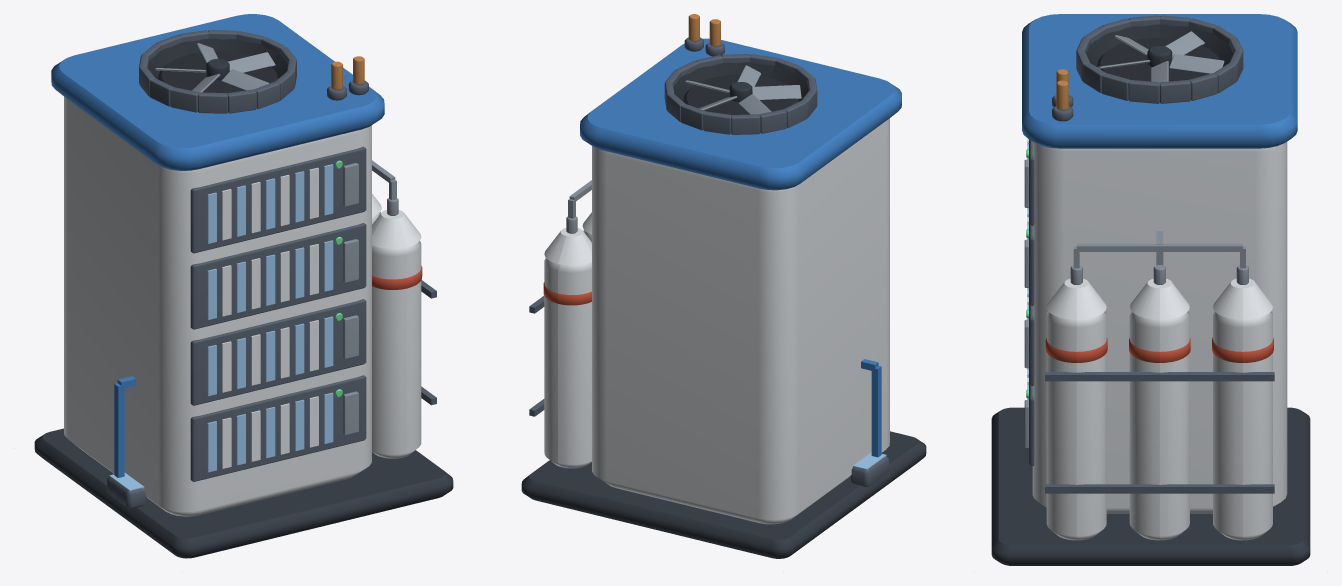
Rendered from pile_combustible.glb.
3 views of the same model, side by side, from view 1: azimuth 30°, elevation 25°; view 2: azimuth 150°, elevation 25°; view 3: azimuth 270°, elevation 25° (orthographic). The views are drawn at different scales.
Parts seen in each view (by area): view 1: pieces_av_blanc.004, pieces_av_sombre.006, pieces_av_bleu.004, pieces_av_fonce.008, pieces_av_bleu_clair.002, pieces_av_grille.004, pieces_av_gris.008, helice_pile_av_gris.002, pieces_av_cuivre.004, pieces_av_rouge.002; view 2: pieces_av_blanc.004, pieces_av_bleu.004, pieces_av_fonce.008, pieces_av_sombre.006, pieces_av_grille.004, helice_pile_av_gris.002, pieces_av_cuivre.004; view 3: pieces_av_blanc.004, pieces_av_bleu.004, pieces_av_fonce.008, pieces_av_sombre.006, pieces_av_grille.004, pieces_av_gris.008, pieces_av_rouge.002, helice_pile_av_gris.002, pieces_av_cuivre.004.
Boxes of the visible parts, left/top/right/bottom form: pieces_av_blanc.004: left=64, top=96, right=421, bottom=516; pieces_av_sombre.006: left=107, top=30, right=436, bottom=508; pieces_av_bleu.004: left=51, top=14, right=384, bottom=477; pieces_av_fonce.008: left=34, top=428, right=453, bottom=558; pieces_av_bleu_clair.002: left=109, top=164, right=333, bottom=491; pieces_av_grille.004: left=148, top=38, right=287, bottom=93; pieces_av_gris.008: left=343, top=160, right=398, bottom=435; helice_pile_av_gris.002: left=155, top=43, right=275, bottom=92; pieces_av_cuivre.004: left=331, top=56, right=364, bottom=89; pieces_av_rouge.002: left=372, top=266, right=422, bottom=289; pieces_av_blanc.004: left=544, top=118, right=889, bottom=524; pieces_av_bleu.004: left=580, top=38, right=901, bottom=457; pieces_av_fonce.008: left=521, top=431, right=926, bottom=558; pieces_av_sombre.006: left=529, top=37, right=888, bottom=486; pieces_av_grille.004: left=673, top=62, right=808, bottom=114; helice_pile_av_gris.002: left=685, top=65, right=801, bottom=114; pieces_av_cuivre.004: left=688, top=14, right=720, bottom=46; pieces_av_blanc.004: left=1027, top=138, right=1287, bottom=540; pieces_av_bleu.004: left=1022, top=14, right=1297, bottom=148; pieces_av_fonce.008: left=991, top=407, right=1310, bottom=565; pieces_av_sombre.006: left=1029, top=15, right=1274, bottom=493; pieces_av_grille.004: left=1086, top=24, right=1233, bottom=81; pieces_av_gris.008: left=1024, top=159, right=1248, bottom=448; pieces_av_rouge.002: left=1045, top=337, right=1273, bottom=362; helice_pile_av_gris.002: left=1097, top=31, right=1224, bottom=82; pieces_av_cuivre.004: left=1056, top=69, right=1068, bottom=110.
Bounding box in the file's own units: 1 × 1.41 × 1.
